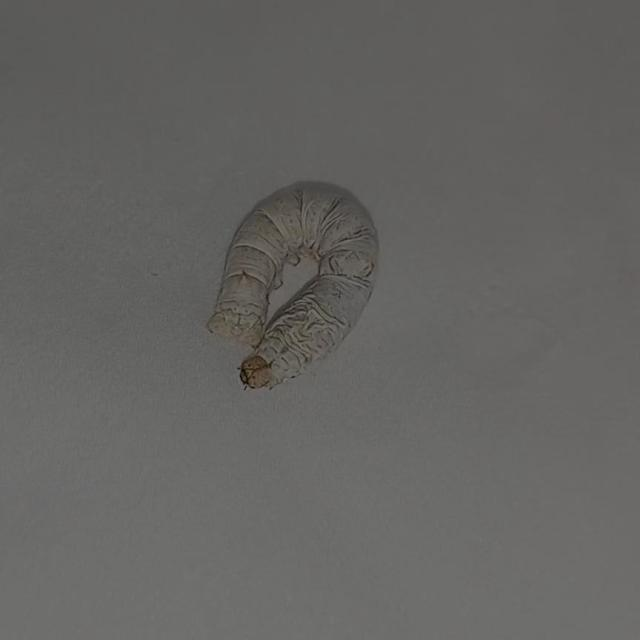Healthy: (207, 170, 384, 399)
